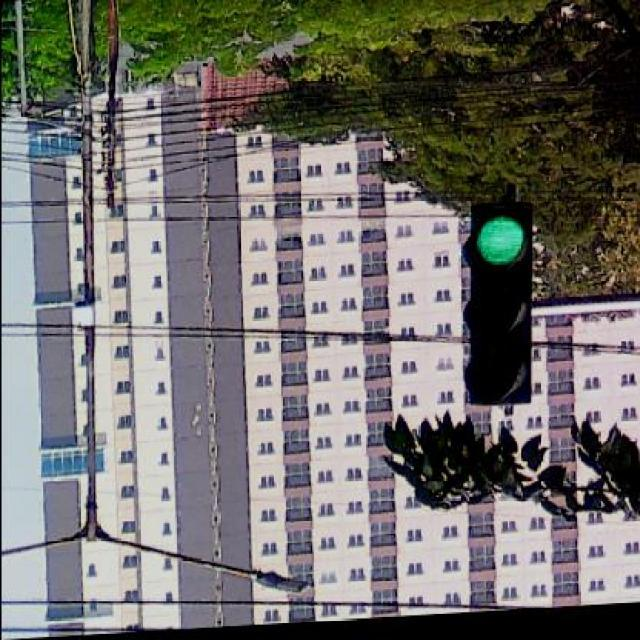traffic light: (462, 201, 534, 406)
